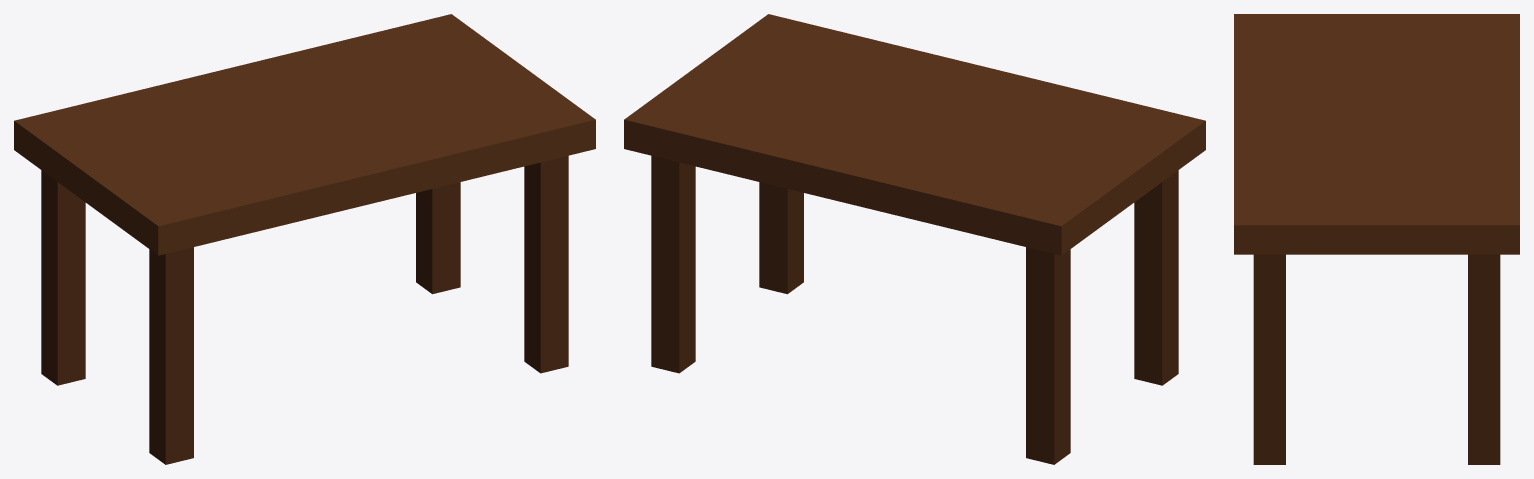
File: table.obj
3 renders of one model, left to right at view 1: azimuth 30°, elevation 25°; view 2: azimuth 150°, elevation 25°; view 3: azimuth 270°, elevation 25°, orthographic.
Bounding box in the file's own units: 1.4 × 0.765 × 0.8.
